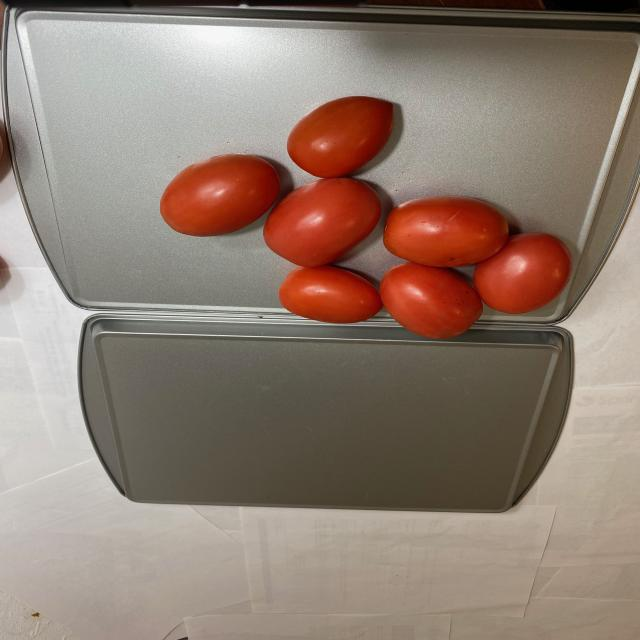tomato: (159, 96, 578, 339)
